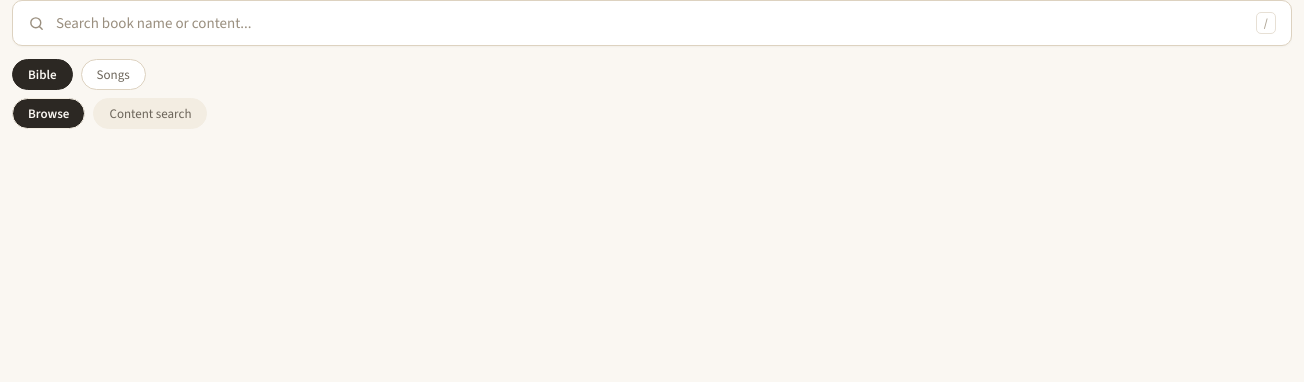
SearchPanel › can return to the book list after selecting a book
Type "joh" into the field with placeholder "Search book name or content...". click: (650, 23)
box: [56,13,1245,33]
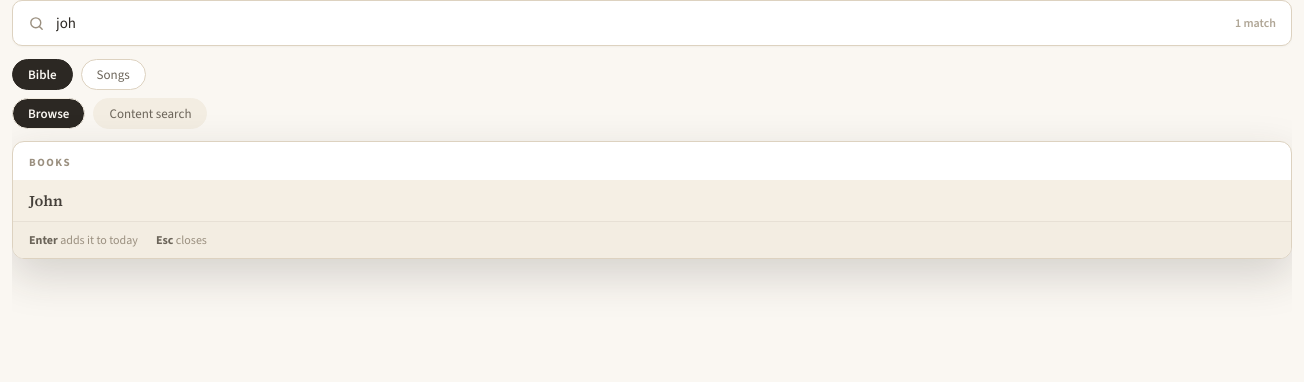
Click the button "John". click: (46, 200)
box: [13,180,1291,221]
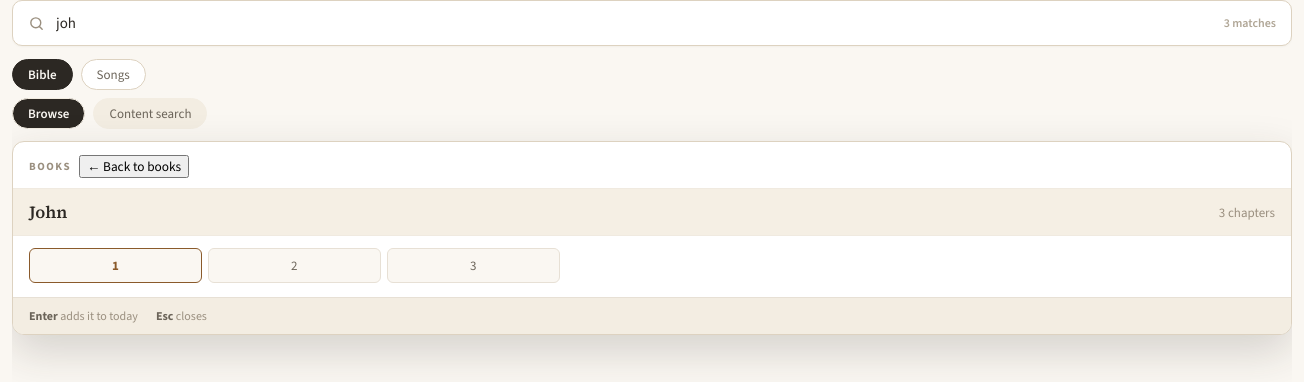
expect the button "3" is shown: met, box [387,248,560,283]
Click the button "← Back to books". click: (134, 166)
box: [79,155,189,178]
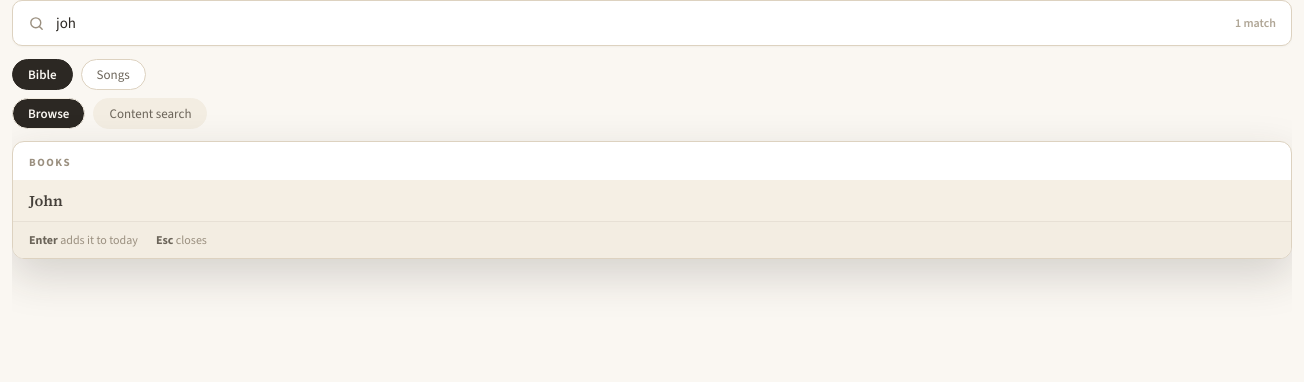
expect the text "John" is shown: met, box [29,190,63,211]
expect the text "3" is gone: met
